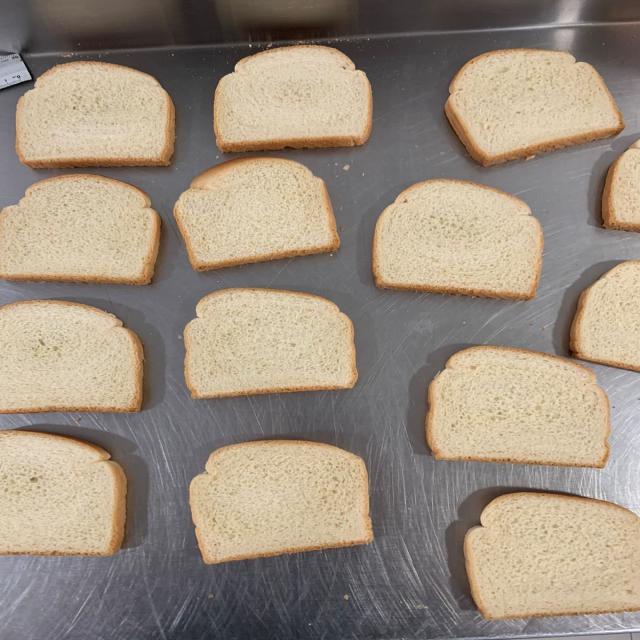sliced_bread: (190, 440, 376, 565), (426, 347, 610, 467), (467, 493, 640, 618), (444, 49, 626, 167), (372, 179, 544, 301), (174, 156, 342, 274), (186, 288, 357, 399), (0, 174, 162, 285), (15, 61, 176, 170), (214, 46, 373, 150)
